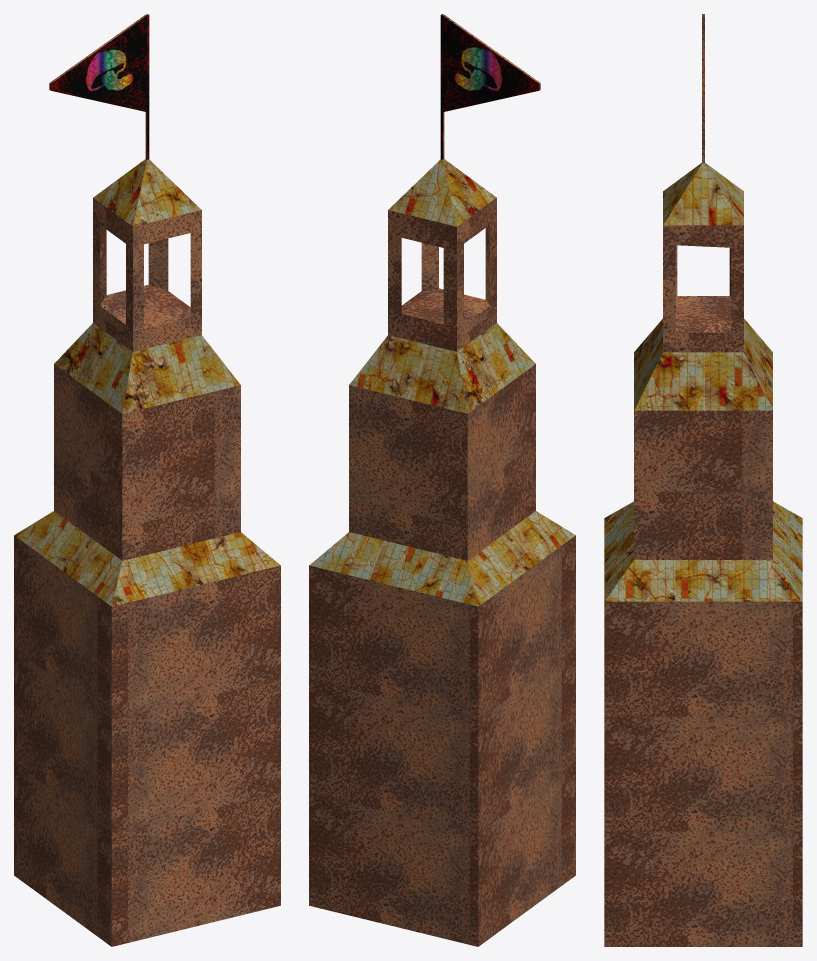
Rendered from 建物棟.fbx.
3 renders of one model, left to right at view 1: azimuth 30°, elevation 25°; view 2: azimuth 150°, elevation 25°; view 3: azimuth 270°, elevation 25°, orthographic.
Visible parts, largest first — view 1: 建物E, 建物E.001, 建物E.003; view 2: 建物E, 建物E.001, 建物E.003; view 3: 建物E, 建物E.001.
Part boxes in pixels (<box>): 建物E: <box>14,14,280,946</box>; 建物E.001: <box>14,159,280,606</box>; 建物E.003: <box>50,15,149,159</box>; 建物E: <box>309,14,575,946</box>; 建物E.001: <box>309,159,575,606</box>; 建物E.003: <box>440,15,539,159</box>; 建物E: <box>604,14,802,946</box>; 建物E.001: <box>604,163,802,601</box>.
Size of the model in its own units: 104 by 479 by 96.86.
3 materials, 3 textured.
